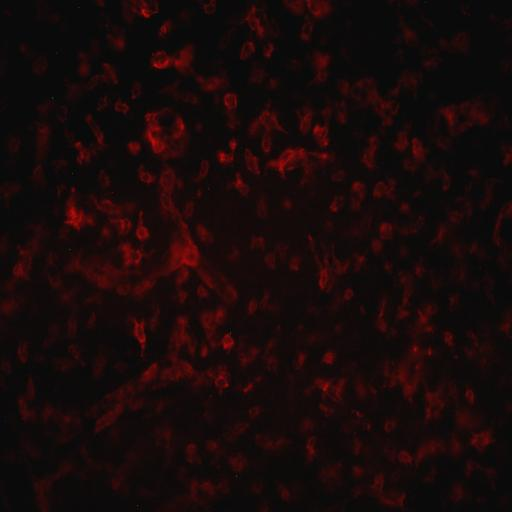microglia: (358, 74, 399, 132), (146, 109, 188, 158), (142, 353, 198, 387), (65, 254, 114, 291), (59, 186, 94, 235), (32, 464, 70, 509), (105, 446, 139, 496), (164, 236, 204, 276), (202, 261, 239, 304), (266, 146, 310, 181), (451, 402, 490, 440), (395, 346, 422, 398), (197, 304, 231, 340), (14, 375, 41, 420), (412, 434, 452, 464), (204, 357, 238, 390), (107, 380, 142, 412), (392, 66, 425, 98), (116, 235, 146, 270), (464, 332, 494, 367), (44, 408, 75, 441), (170, 313, 196, 351), (60, 291, 102, 314), (492, 200, 512, 248), (315, 377, 346, 407), (421, 388, 450, 420), (438, 29, 471, 57), (91, 197, 137, 217), (93, 404, 125, 432), (256, 430, 290, 456), (342, 213, 372, 242), (156, 420, 176, 461), (161, 200, 194, 224), (20, 224, 44, 257), (123, 0, 159, 21), (309, 234, 331, 267), (243, 7, 266, 38), (438, 104, 461, 135), (312, 108, 330, 147), (418, 300, 436, 338), (468, 429, 499, 451), (171, 44, 193, 74), (44, 253, 62, 289), (224, 90, 240, 130), (188, 481, 216, 503), (311, 49, 328, 85), (36, 119, 50, 162), (222, 420, 248, 443), (237, 341, 259, 368), (262, 336, 278, 373), (85, 112, 104, 143), (260, 111, 288, 132), (361, 137, 379, 169), (81, 444, 101, 472), (466, 102, 490, 125), (319, 462, 342, 486), (196, 76, 230, 92), (332, 96, 349, 128), (399, 216, 426, 236), (73, 140, 92, 168), (160, 164, 176, 197), (426, 170, 452, 190), (398, 269, 412, 306), (176, 269, 190, 305), (351, 408, 372, 432), (497, 310, 512, 343), (218, 138, 236, 165), (306, 1, 333, 19), (244, 146, 260, 176), (136, 212, 152, 242), (0, 181, 19, 206), (309, 147, 335, 165), (350, 181, 365, 211), (380, 492, 408, 508), (136, 165, 156, 187), (133, 278, 155, 298), (0, 297, 23, 316), (232, 171, 250, 195), (260, 290, 278, 314), (151, 49, 172, 69), (296, 107, 312, 133), (400, 19, 417, 43), (340, 78, 360, 98), (333, 256, 349, 280), (44, 324, 60, 348), (85, 73, 106, 91), (196, 223, 214, 244), (355, 373, 369, 400), (376, 297, 387, 331), (375, 180, 394, 199), (228, 453, 248, 471), (194, 160, 210, 182), (110, 219, 132, 235), (328, 293, 344, 315), (249, 112, 263, 137), (449, 266, 468, 284), (412, 137, 425, 163), (104, 61, 120, 82), (64, 81, 80, 102), (432, 224, 448, 245), (256, 196, 270, 220), (303, 331, 324, 347), (106, 34, 126, 50), (78, 49, 89, 78), (394, 130, 408, 152), (163, 82, 179, 101), (134, 319, 146, 344), (93, 355, 105, 379), (449, 433, 462, 455), (285, 1, 305, 15), (240, 40, 254, 60), (184, 443, 198, 463), (55, 358, 75, 372), (301, 18, 313, 41), (32, 57, 48, 74), (449, 243, 465, 260), (180, 93, 198, 108), (292, 352, 307, 370), (468, 241, 486, 256), (450, 484, 464, 503), (500, 145, 512, 167), (261, 131, 272, 154), (115, 98, 129, 116), (17, 341, 28, 363), (329, 195, 344, 211), (372, 472, 384, 492), (448, 207, 463, 223), (414, 260, 426, 280), (8, 135, 20, 155), (159, 20, 173, 37), (55, 104, 68, 122), (305, 436, 316, 457), (352, 436, 363, 457), (397, 450, 412, 465), (250, 67, 264, 83), (250, 236, 264, 252), (12, 263, 26, 279), (447, 293, 461, 309), (38, 98, 51, 115), (247, 296, 259, 314), (203, 0, 218, 14), (68, 344, 81, 360), (96, 94, 108, 111), (116, 282, 130, 296), (322, 350, 336, 364), (351, 463, 364, 478), (128, 140, 140, 156), (264, 252, 276, 268), (32, 164, 44, 180), (98, 169, 109, 186), (319, 272, 329, 290), (279, 482, 289, 500), (400, 199, 411, 215), (130, 83, 140, 100), (205, 439, 218, 452), (263, 44, 275, 58), (380, 224, 392, 238), (332, 168, 344, 182), (198, 284, 210, 298), (299, 418, 313, 430), (289, 256, 300, 271), (68, 320, 78, 336), (355, 252, 365, 268), (372, 239, 382, 255), (384, 420, 395, 433), (465, 389, 474, 404), (444, 331, 453, 345), (249, 406, 259, 418), (334, 322, 344, 333), (283, 198, 292, 210), (344, 288, 353, 300), (95, 0, 107, 7), (427, 346, 432, 356), (195, 124, 202, 131)
